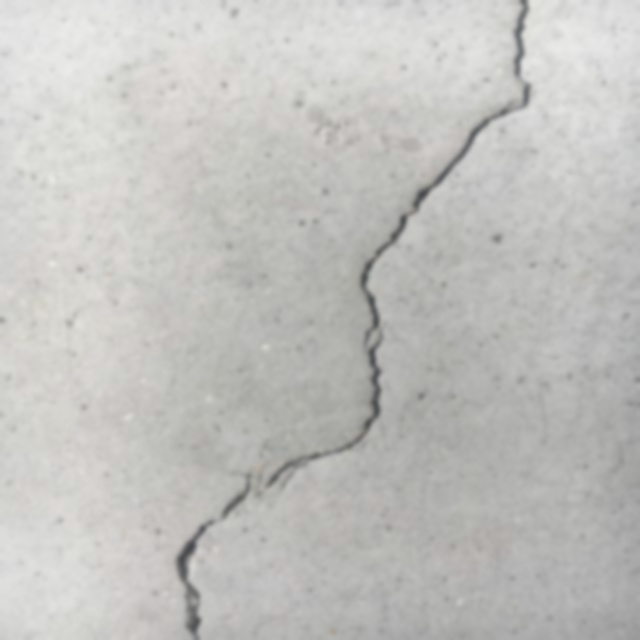SurfaceCrack: (140, 1, 584, 640)
